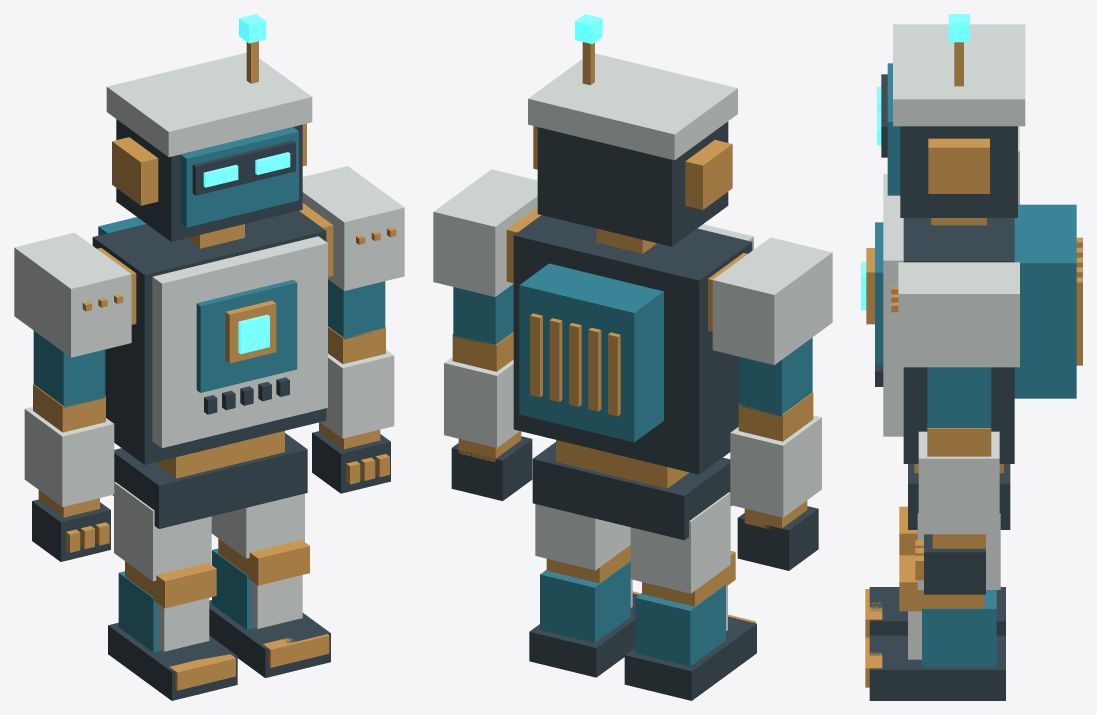
The model's file is robot.glb.
The picture shows the model from 3 angles, left to right: view 1: azimuth 30°, elevation 25°; view 2: azimuth 150°, elevation 25°; view 3: azimuth 270°, elevation 25°; orthographic projection. The views are drawn at different scales.
Parts seen in each view (by area): view 1: Breastplate, Torso chassis, Helmet crown, Left shoulder armor, Hip shell, Right shoulder armor, Left forearm, Chest inset, Face plate, Left thigh, Right forearm, Head chassis (+27 smaller); view 2: Torso chassis, Backpack, Head chassis, Helmet crown, Left shoulder armor, Hip shell, Right shoulder armor, Left forearm, Left thigh, Right shin, Left shin, Right forearm (+23 smaller); view 3: Right shoulder armor, Helmet crown, Backpack, Torso chassis, Head chassis, Right forearm, Right foot, Right shin, Breastplate, Right upper arm, Right ear, Right hand (+18 smaller).
Part boxes in pixels (bbox=[...]): Breastplate: bbox=[152, 236, 327, 448]; Torso chassis: bbox=[92, 211, 326, 464]; Helmet crown: bbox=[106, 52, 312, 157]; Left shoulder armor: bbox=[14, 232, 131, 357]; Hip shell: bbox=[113, 433, 307, 528]; Right shoulder armor: bbox=[302, 166, 404, 290]; Left forearm: bbox=[24, 407, 114, 506]; Chest inset: bbox=[196, 279, 297, 392]; Face plate: bbox=[180, 127, 298, 227]; Left thigh: bbox=[114, 482, 211, 581]; Right forearm: bbox=[320, 349, 394, 438]; Head chassis: bbox=[116, 119, 302, 241]; Torso chassis: bbox=[513, 215, 752, 474]; Backpack: bbox=[519, 263, 663, 442]; Head chassis: bbox=[537, 121, 728, 246]; Helmet crown: bbox=[528, 53, 737, 160]; Left shoulder armor: bbox=[712, 237, 832, 365]; Hip shell: bbox=[532, 442, 731, 540]; Right shoulder armor: bbox=[433, 169, 537, 296]; Left forearm: bbox=[730, 415, 821, 517]; Left thigh: bbox=[630, 492, 730, 593]; Right shin: bbox=[540, 561, 630, 643]; Left shin: bbox=[635, 585, 725, 666]; Right forearm: bbox=[444, 357, 519, 447]; Right shoulder armor: bbox=[898, 262, 1019, 367]; Helmet crown: bbox=[893, 24, 1025, 126]; Backpack: bbox=[1014, 204, 1076, 398]; Torso chassis: bbox=[903, 218, 1014, 463]; Head chassis: bbox=[900, 126, 1017, 217]; Right forearm: bbox=[918, 431, 999, 534]; Right foot: bbox=[869, 635, 1005, 700]; Right shin: bbox=[922, 590, 996, 666]; Breastplate: bbox=[883, 174, 903, 436]; Right upper arm: bbox=[927, 367, 991, 427]; Right ear: bbox=[928, 138, 989, 193]; Right hand: bbox=[924, 534, 985, 594].
Bounding box in the file's own units: 1.93 × 3.43 × 1.04.
